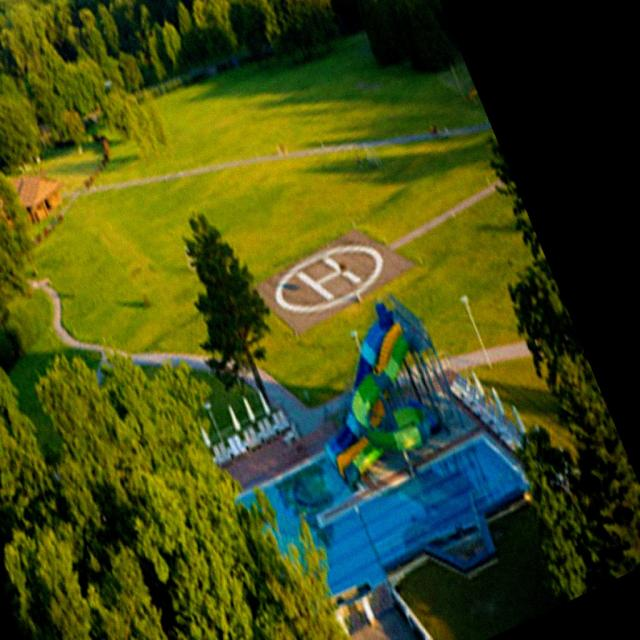helipad: (274, 242, 384, 314)
